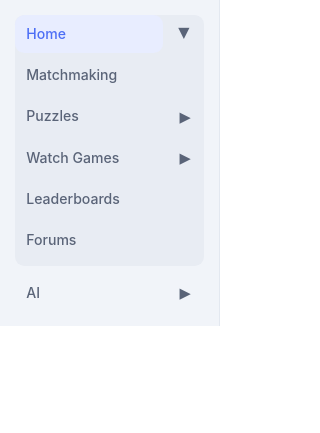
Test: SideBarNav: AI dropdown › toggles open and closed on click
Click the button with test id "ai-menu-toggle". click: (185, 293)
box: [166,274,204,311]
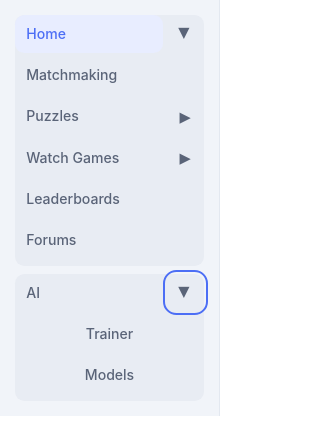
Now the button with test id "ai-menu-toggle" is expanded
Now the link "Trainer" is shown, box [86,325,133,342]
Click the button with test id "ai-menu-toggle". click: (185, 293)
box: [166,274,204,311]
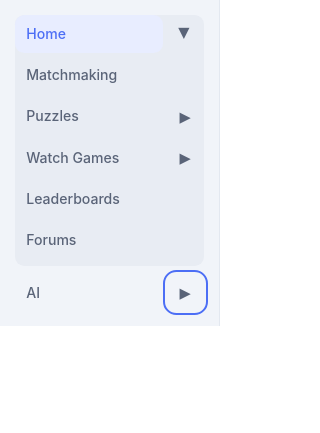
Now the button with test id "ai-menu-toggle" is collapsed, box [166,274,204,311]
Now the link "Trainer" is gone
